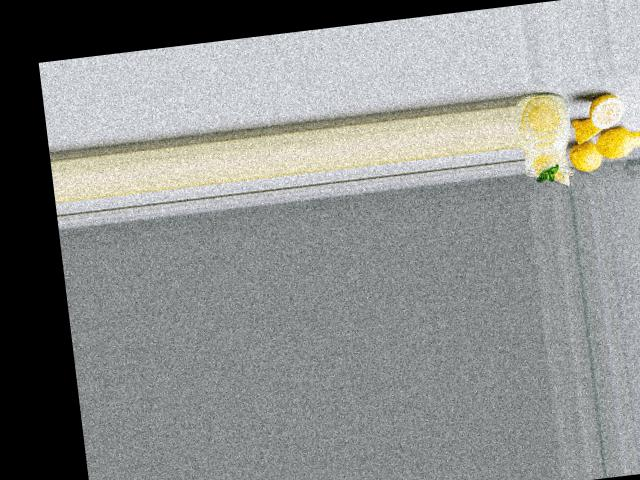lemon: (588, 127, 633, 159)
